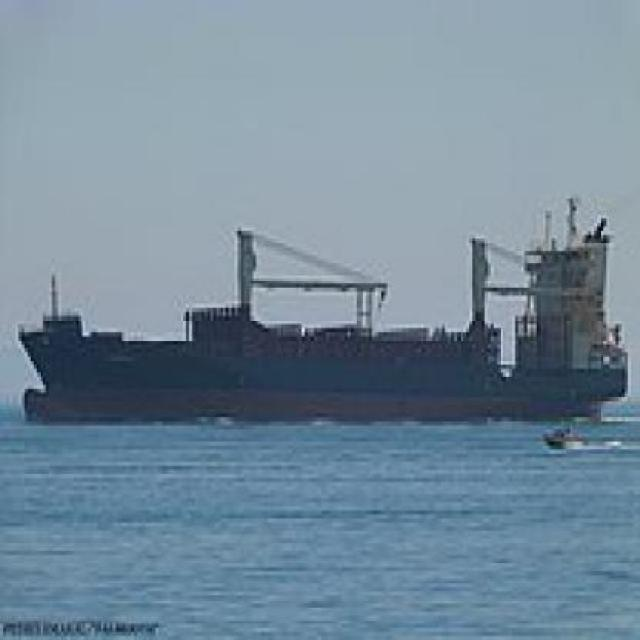container: (13, 196, 638, 439)
